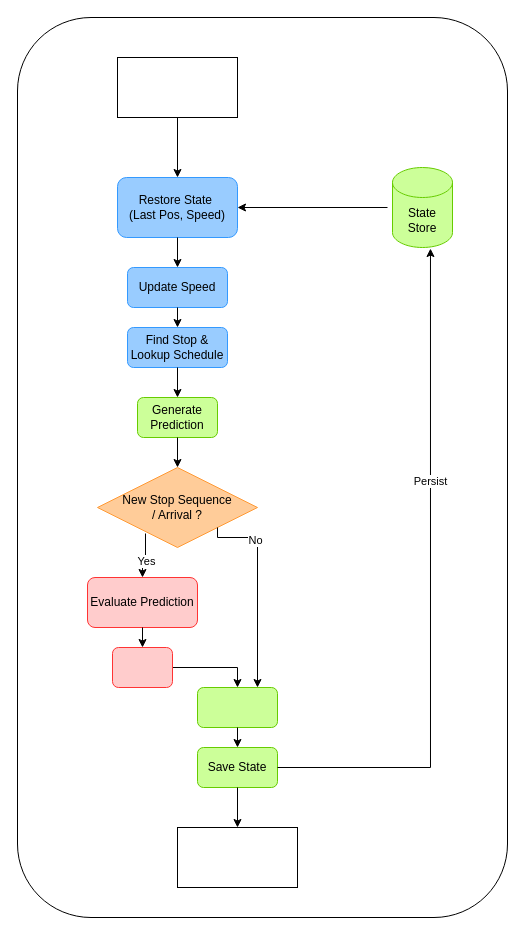
Some shapes in this 525 by 935 pixel diagram are drawn without their labels. Each missing label, with the centre of its shape:
"Append to Buffer" goes at (237,707).
"Clear Buffer" goes at (142,667).
"Input Row" goes at (177,87).
"Output Row (Prediction + Error)" goes at (237,857).
